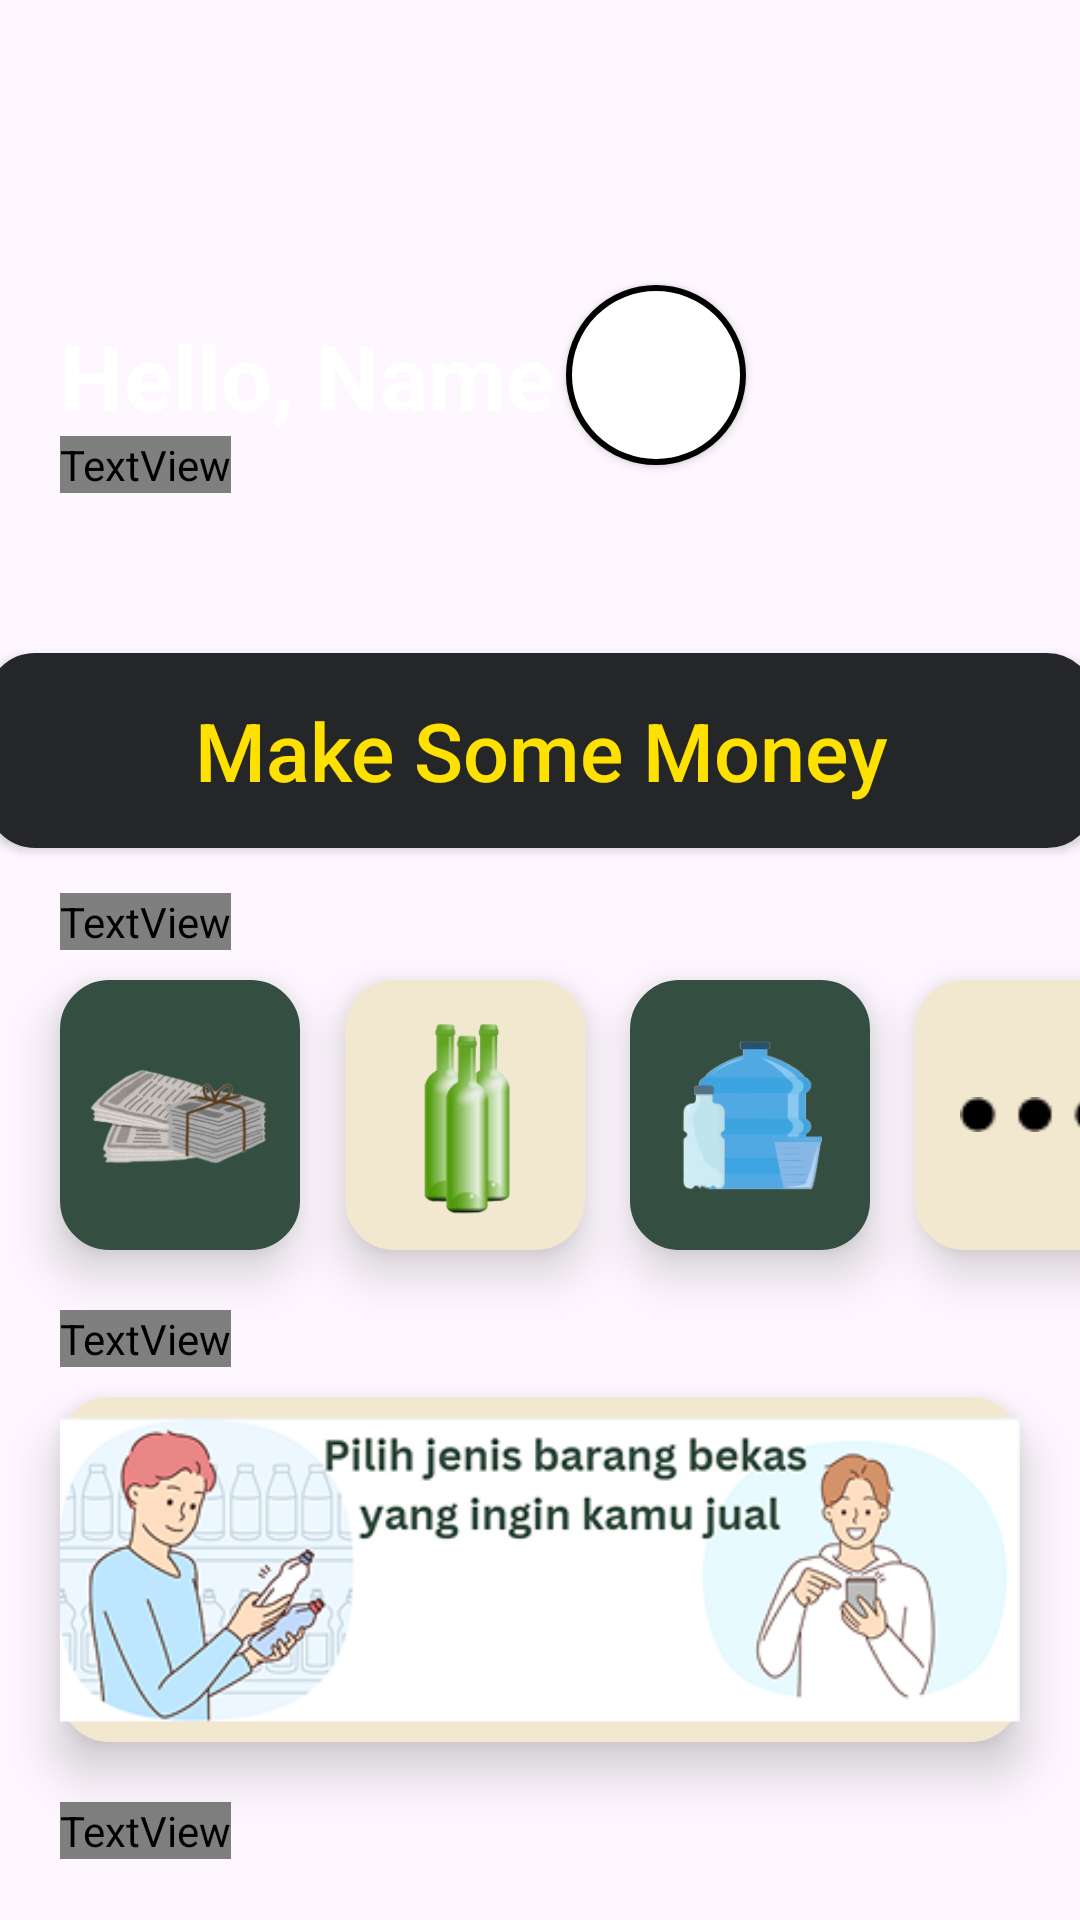

Icons on this 1080px x 1920px Android screen, each with the point to tap as point (x, y):
glass bottle: point (465, 1115)
paper: point (180, 1115)
plastic: point (750, 1115)
